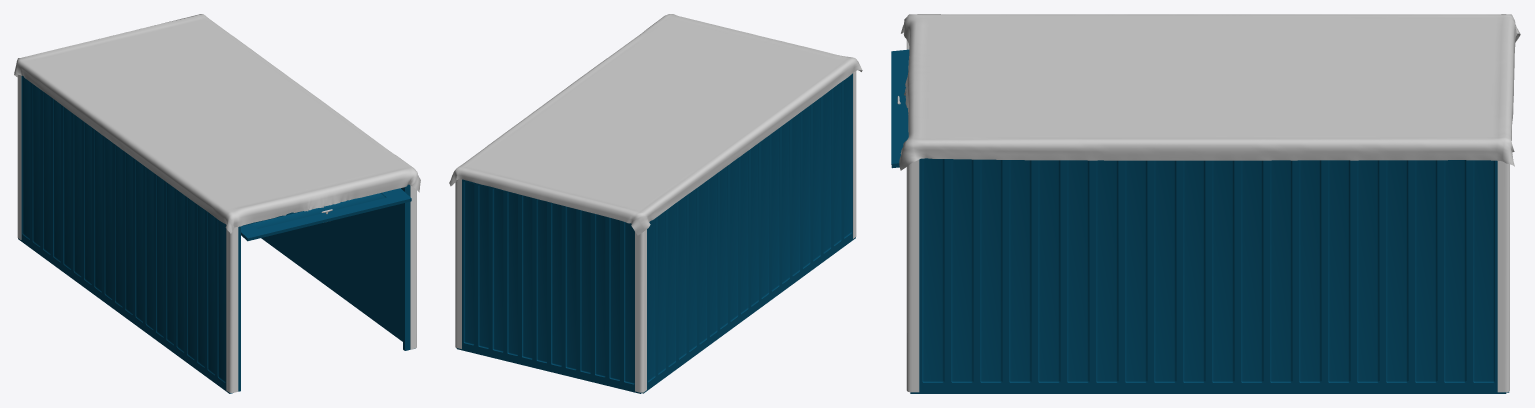
Rendered from Blue Metal Garage.fbx.
The picture shows the model from 3 angles, left to right: view 1: azimuth 30°, elevation 25°; view 2: azimuth 150°, elevation 25°; view 3: azimuth 270°, elevation 25°; orthographic projection. The views are drawn at different scales.
Visible parts, largest first — view 1: roofing, wall_1, wall, Corner, GateOpen, FrontFrame; view 2: roofing, wall_1, backWall, Corner; view 3: wall, roofing, Corner, GateOpen.
Part boxes in pixels (x1,y1,x2,y2): roofing: (14, 14, 420, 233); wall_1: (18, 75, 232, 393); wall: (261, 187, 415, 348); Corner: (17, 75, 416, 392); GateOpen: (241, 188, 411, 241); FrontFrame: (238, 184, 410, 391); roofing: (449, 14, 862, 235); wall_1: (642, 73, 855, 393); backWall: (456, 179, 641, 393); Corner: (455, 71, 856, 392); wall: (910, 158, 1506, 393); roofing: (899, 14, 1520, 170); Corner: (906, 40, 1509, 392); GateOpen: (891, 49, 909, 168).
Bounding box in the file's own units: 268 × 235 × 528.
